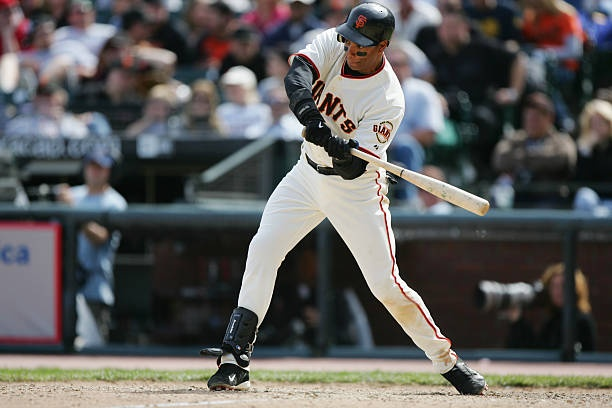bita: (344, 146, 493, 214)
